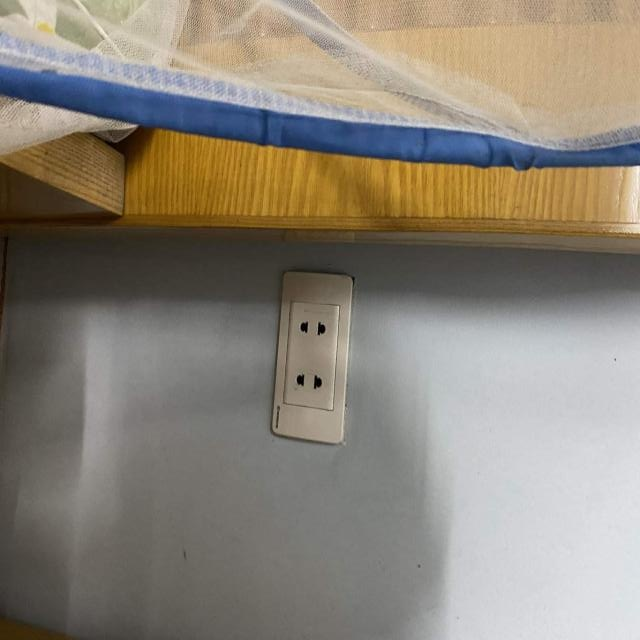outlet: (271, 270, 354, 445)
